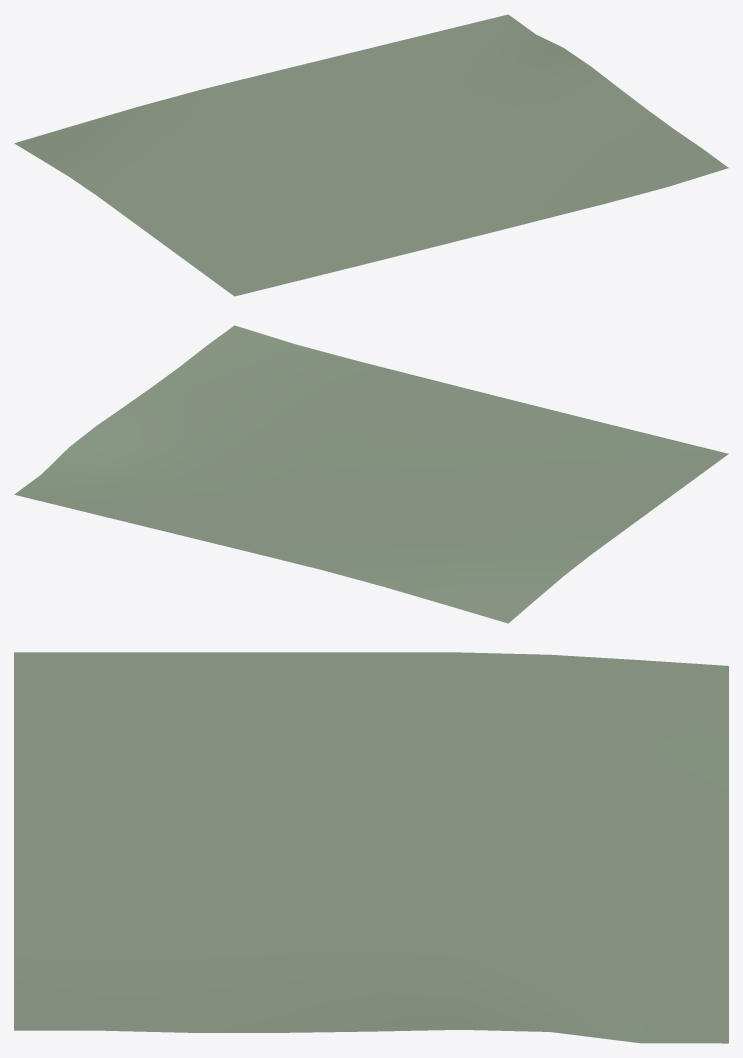
File: chunk_1_0_LOD2.glb
3 views of the same model, one above another, from view 1: azimuth 30°, elevation 25°; view 2: azimuth 150°, elevation 25°; view 3: azimuth 270°, elevation 25° (orthographic). The views are drawn at different scales.
Bounding box in the file's own units: 110 × 3.56 × 85.
